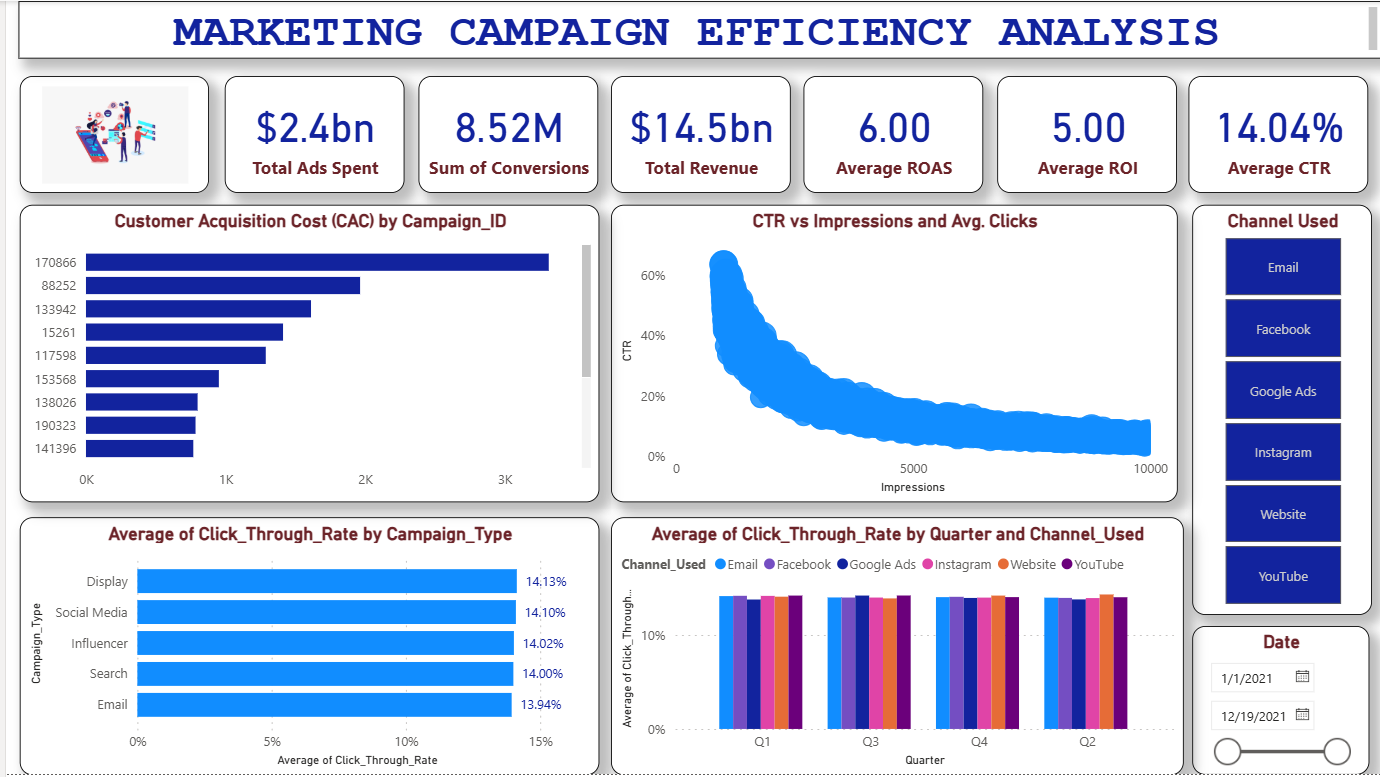

What the dashboard file says about the page in this screenshot:
{"tool":"powerbi","page":{"name":"Campaign Efficiency Analysis","canvas":[1280,720],"ordinal":1},"visuals":[{"type":"textbox","box":[12.1,0,1267.9,53.5],"z":0},{"type":"image","box":[12.3,70,175.6,108.4],"z":1000},{"type":"card","fields":{"Values":["Sum(marketing_campaign_cleaned.Acquisition_Cost)"]},"box":[203.1,70,167.4,108.4],"z":2000},{"type":"card","fields":{"Values":["Sum(marketing_campaign_cleaned.Conversions)"]},"box":[384.2,70,167.4,108.4],"z":3000},{"type":"card","fields":{"Values":["Sum(marketing_campaign_cleaned.Revenue)"]},"box":[562.6,70,167.4,108.4],"z":4000},{"type":"card","fields":{"Values":["Avg(marketing_campaign_cleaned.ROAS)"]},"box":[742.4,70,167.4,108.4],"z":5000},{"type":"card","fields":{"Values":["Avg(marketing_campaign_cleaned.ROI)"]},"box":[922.1,70,167.4,108.4],"z":6000},{"type":"card","fields":{"Values":["Avg(marketing_campaign_cleaned.Click_Through_Rate)"]},"box":[1100.5,70,167.4,108.4],"z":7000},{"type":"slicer","title":"Channel Used","fields":{"Values":["marketing_campaign_cleaned.Channel_Used"]},"box":[1103.3,189.4,167.4,381.5],"z":8000},{"type":"slicer","title":"Date","fields":{"Values":["DateTable.Date"]},"box":[1103.3,581.4,164.7,138.6],"z":9000},{"type":"scatterChart","title":"CTR vs Impressions and Avg. Clicks","fields":{"X":["marketing_campaign_cleaned.Impressions"],"Size":["Avg(marketing_campaign_cleaned.Clicks)"],"Y":["marketing_campaign_cleaned.CTR"]},"box":[562.6,189.4,526.9,277.2],"z":10000},{"type":"clusteredBarChart","fields":{"Category":["marketing_campaign_cleaned.Campaign_Type"],"Y":["Avg(marketing_campaign_cleaned.Click_Through_Rate)"]},"box":[12.3,479.9,539.3,240.1],"z":11000},{"type":"clusteredColumnChart","fields":{"Category":["DateTable.Quarter"],"Series":["marketing_campaign_cleaned.Channel_Used"],"Y":["Avg(marketing_campaign_cleaned.Click_Through_Rate)"]},"box":[562.6,479.9,532.4,240.1],"z":12000},{"type":"clusteredBarChart","fields":{"Category":["marketing_campaign_cleaned.Campaign_ID"],"Y":["marketing_campaign_cleaned.Customer Acquisition Cost (CAC)"]},"box":[12.3,189.4,539.3,277.2],"z":13000}]}

Visuals, with their boxes in screenshot pixels (x1, y1, x2, y2), scaled from the page's 1280x720 canvas onto the 1380x777 screenshot:
textbox: (13,0,1379,58)
image: (13,76,203,193)
card - Sum(marketing_campaign_cleaned.Acquisition_Cost): (219,76,399,193)
card - Sum(marketing_campaign_cleaned.Conversions): (414,76,595,193)
card - Sum(marketing_campaign_cleaned.Revenue): (607,76,787,193)
card - Avg(marketing_campaign_cleaned.ROAS): (800,76,981,193)
card - Avg(marketing_campaign_cleaned.ROI): (994,76,1175,193)
card - Avg(marketing_campaign_cleaned.Click_Through_Rate): (1186,76,1367,193)
"Channel Used" slicer: (1189,204,1370,616)
"Date" slicer: (1189,627,1367,776)
"CTR vs Impressions and Avg. Clicks" scatterChart: (607,204,1175,504)
clusteredBarChart - marketing_campaign_cleaned.Campaign_Type x Avg(marketing_campaign_cleaned.Click_Through_Rate): (13,518,595,776)
clusteredColumnChart - DateTable.Quarter x marketing_campaign_cleaned.Channel_Used: (607,518,1181,776)
clusteredBarChart - marketing_campaign_cleaned.Campaign_ID x marketing_campaign_cleaned.Customer Acquisition Cost (CAC): (13,204,595,504)
